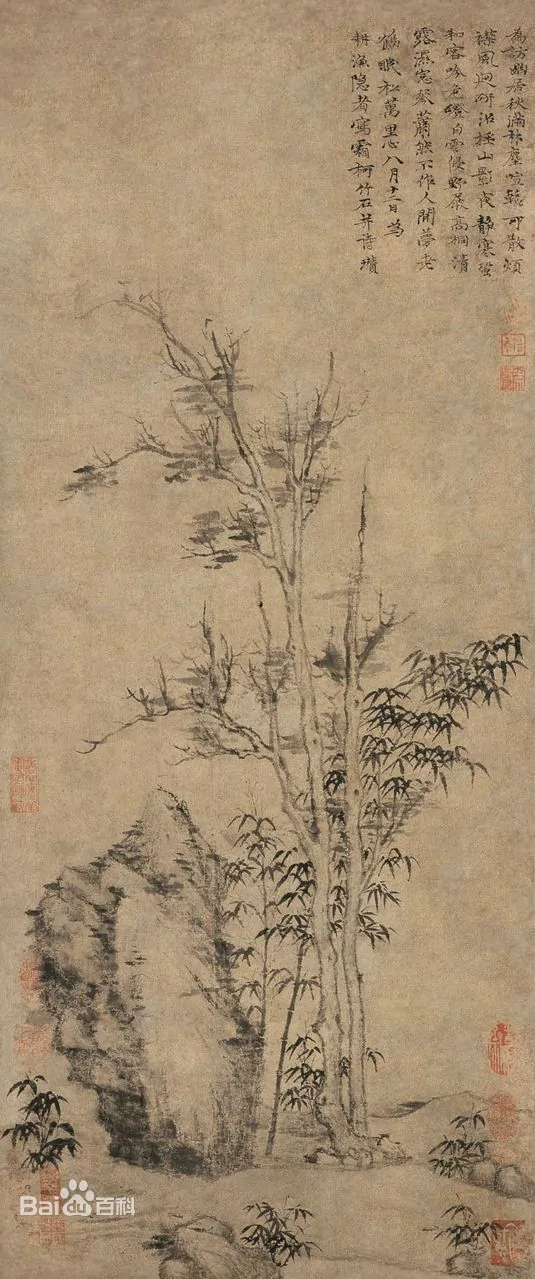pine: (60, 275, 525, 1175)
rock: (29, 790, 263, 1185)
